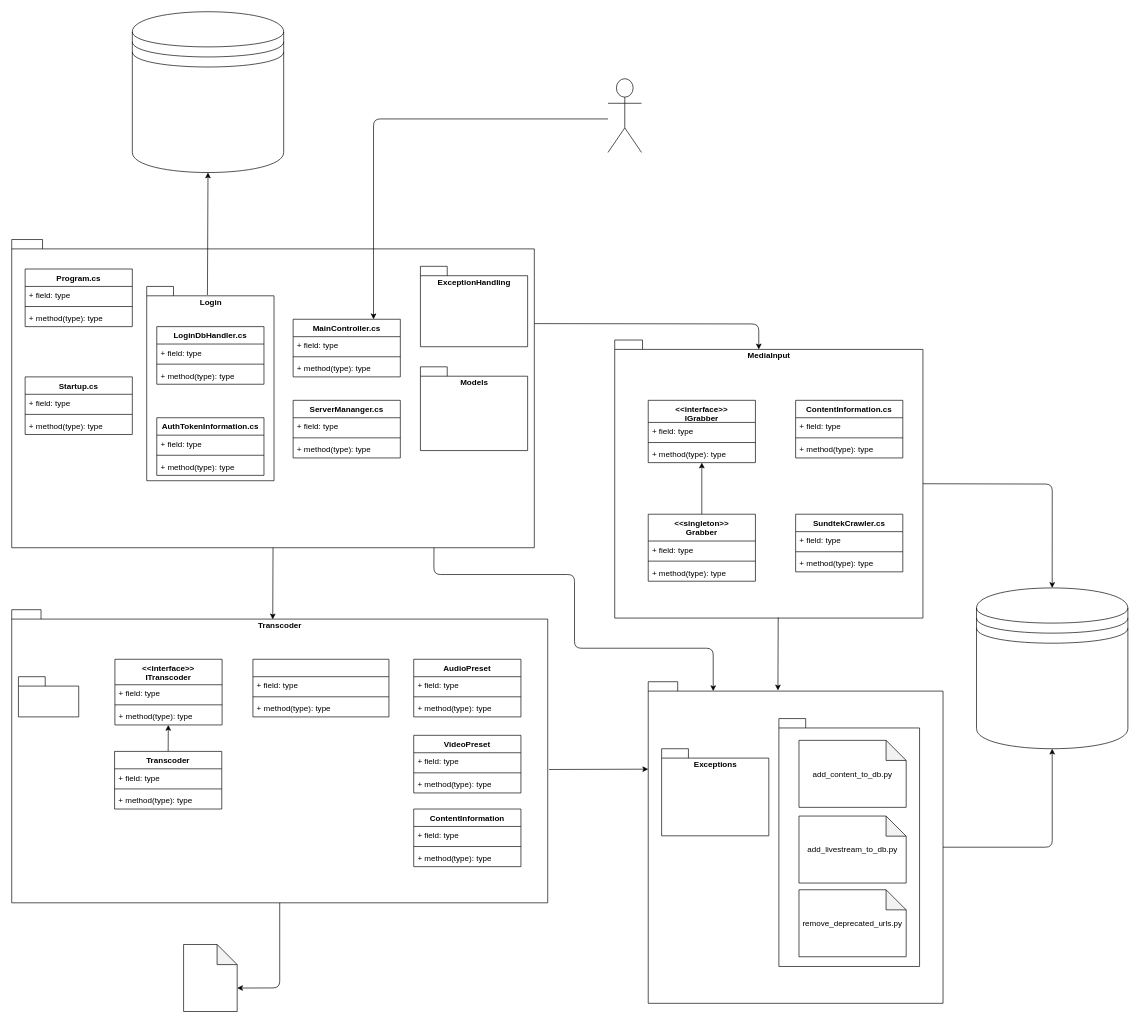
The diagram is 1140 pixels wide and 1024 high, and some of its shapes have lost their labels. The box of each missing label's shape, as (x1, y1, x2, y2) in pixels:
Account: (132, 11, 284, 173)
Client: (607, 78, 642, 152)
Data: (648, 681, 943, 1003)
FFmpeg: (18, 676, 79, 717)
Mediatheken Content: (976, 587, 1128, 749)
presets.config: (183, 944, 237, 1011)
Scripts: (778, 718, 920, 966)
TranscoderCachingObject: (252, 659, 389, 717)
WebApi: (11, 239, 534, 548)
